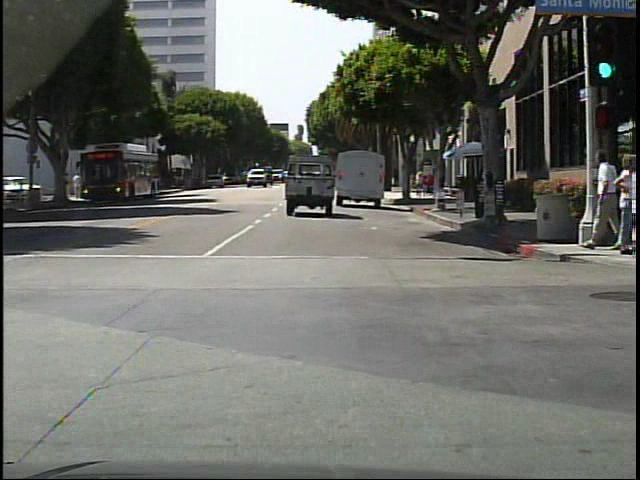person: (585, 149, 621, 251), (609, 156, 634, 254), (74, 171, 84, 200), (416, 171, 426, 198), (65, 174, 74, 201), (411, 168, 419, 198)
